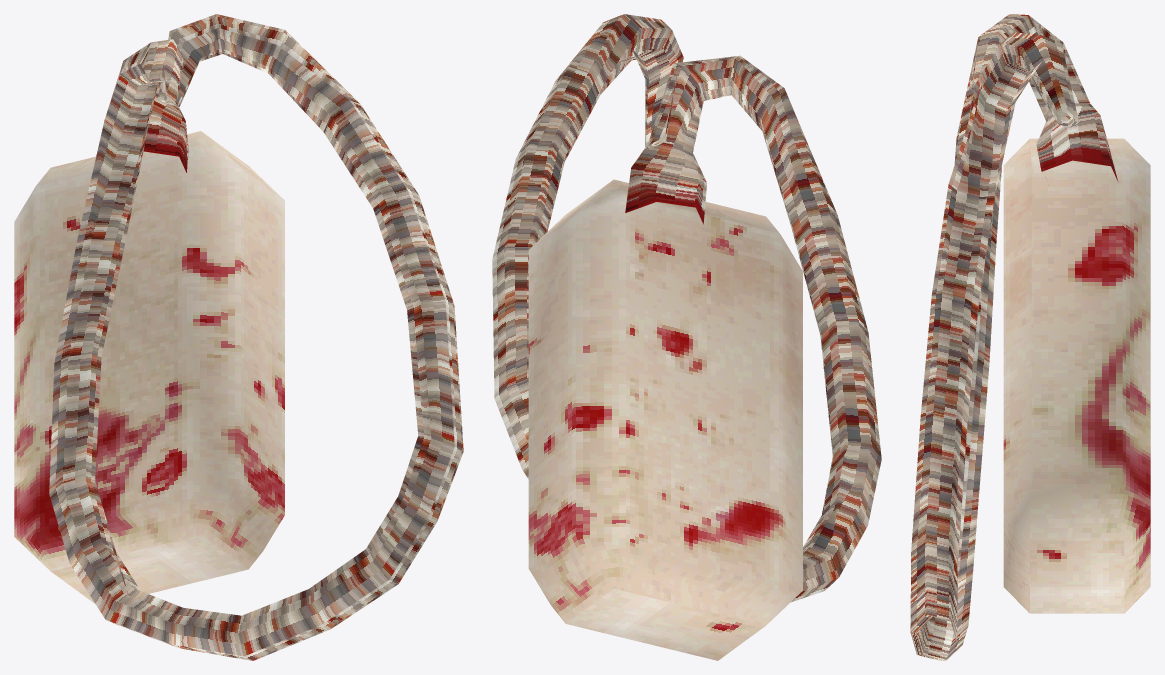
Rendered from ps2_save-icons_thesuffering.glb.
3 views of the same model, side by side, from view 1: azimuth 30°, elevation 25°; view 2: azimuth 150°, elevation 25°; view 3: azimuth 270°, elevation 25° (orthographic).
Visible parts, largest first — view 1: FolderIcon.ico; view 2: FolderIcon.ico; view 3: FolderIcon.ico.
Part boxes in pixels (x1=…): FolderIcon.ico: x1=14, y1=14, x2=463, y2=660; FolderIcon.ico: x1=492, y1=14, x2=881, y2=660; FolderIcon.ico: x1=910, y1=14, x2=1150, y2=660.
Bounding box in the file's own units: 2.48 × 3.74 × 1.34.
1 material, 1 textured.
